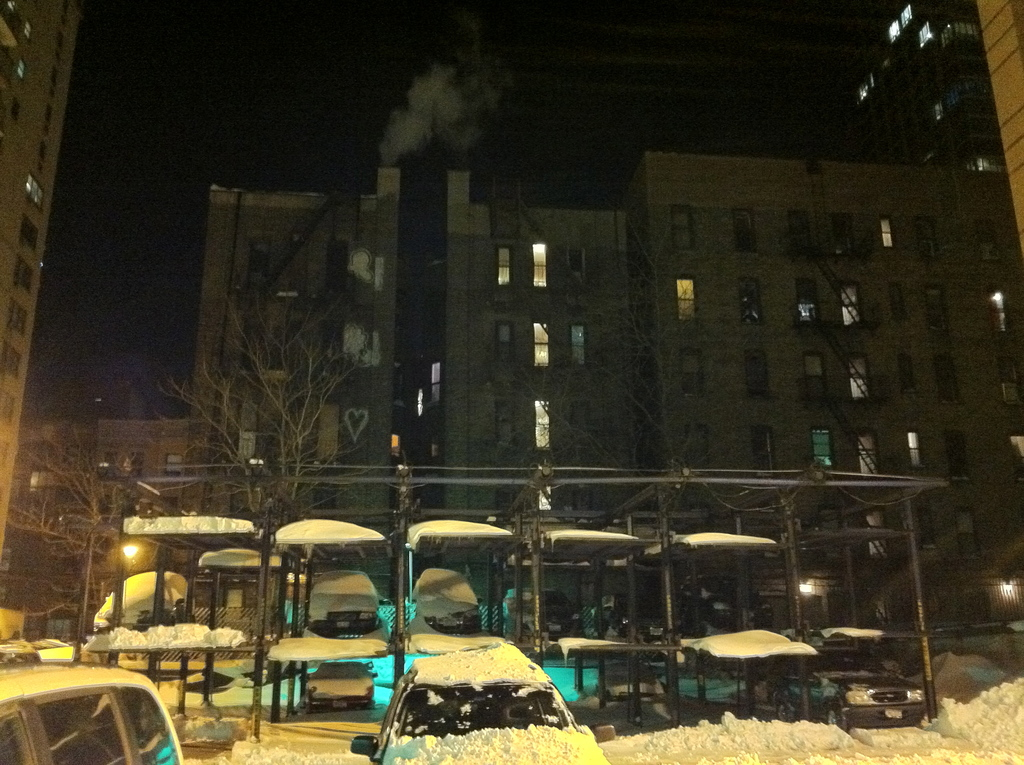Tree: (525, 210, 746, 627), (154, 288, 388, 677), (5, 418, 135, 658)
